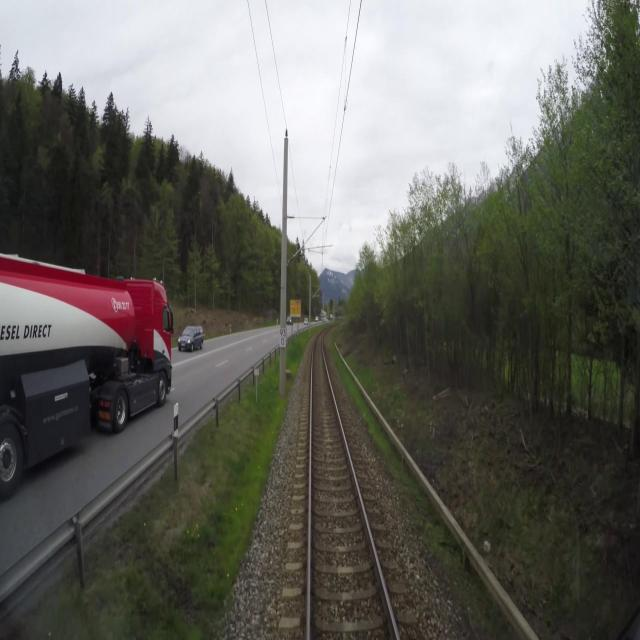rail-track: (311, 331, 395, 639)
